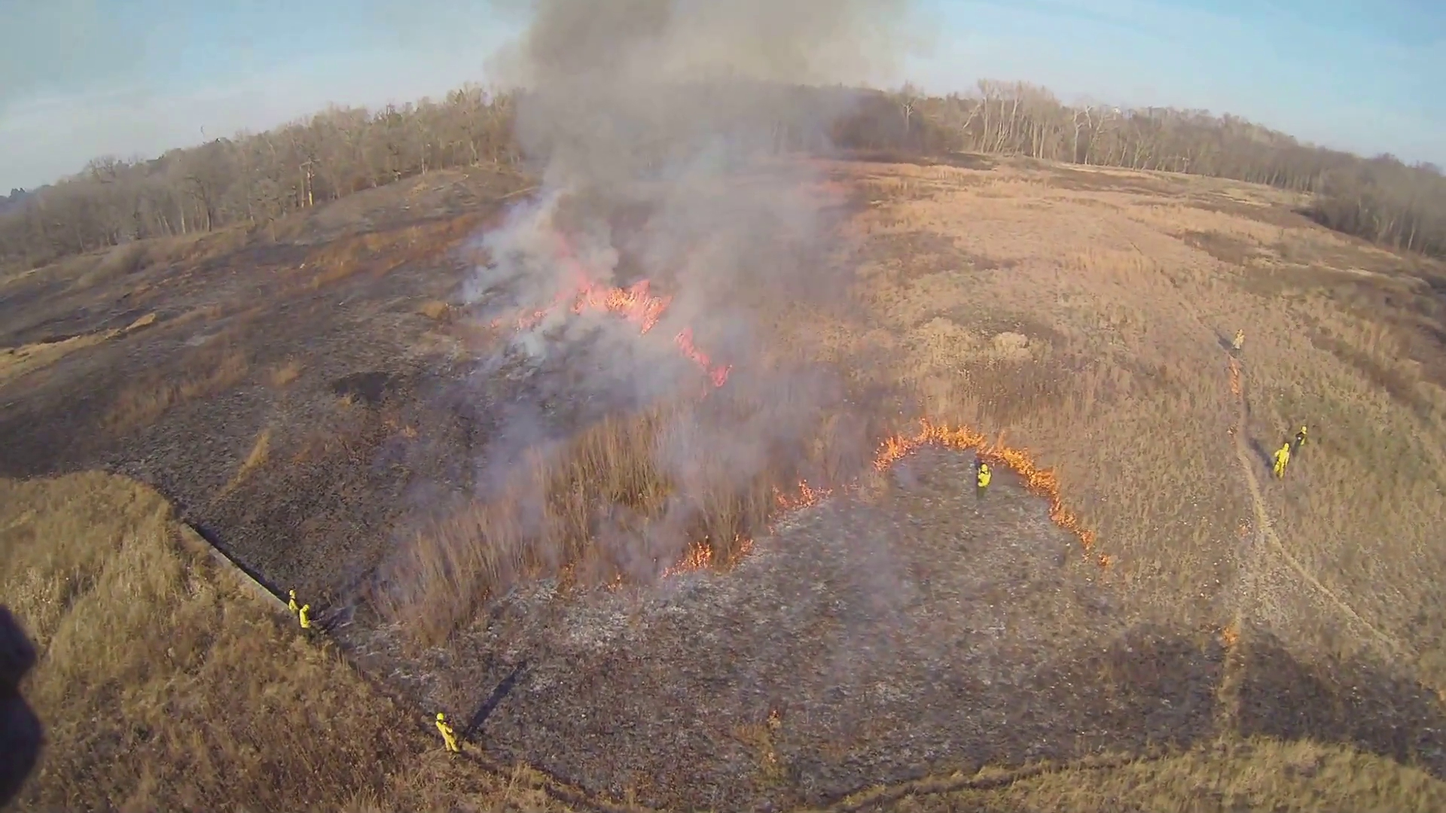forest_fire: (871, 419, 1094, 553), (493, 240, 670, 333), (674, 327, 731, 388), (665, 543, 732, 574), (771, 480, 832, 510)
